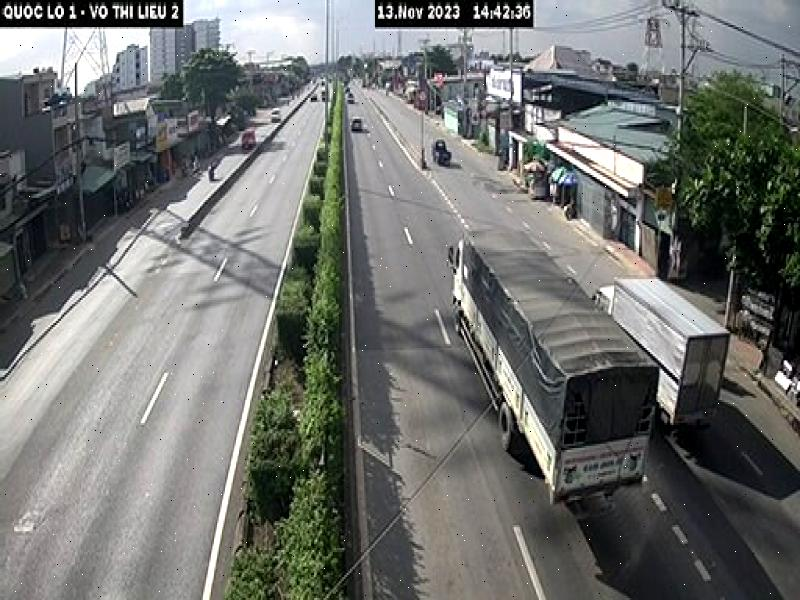truck: (442, 224, 658, 504)
